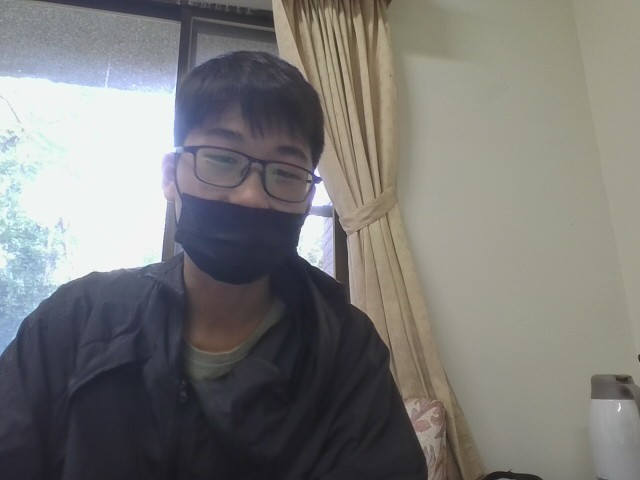No_Helmet: (159, 44, 329, 285), (166, 46, 329, 218)
person: (0, 35, 459, 479)
